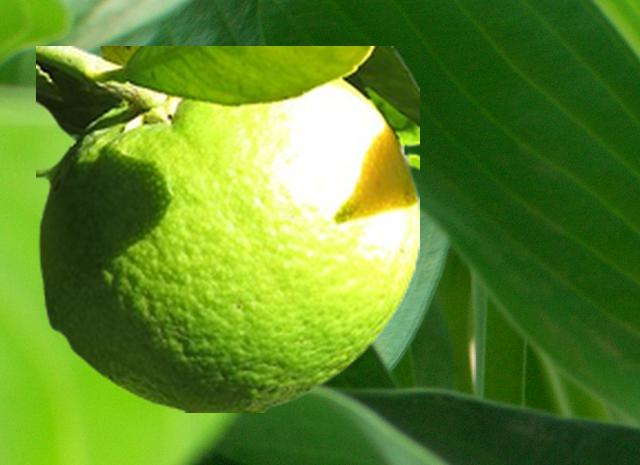dalandan: (36, 46, 418, 411)
